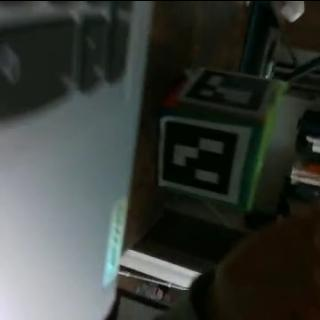armor: (158, 118, 252, 202), (178, 68, 282, 116)
robot: (154, 69, 288, 207)
